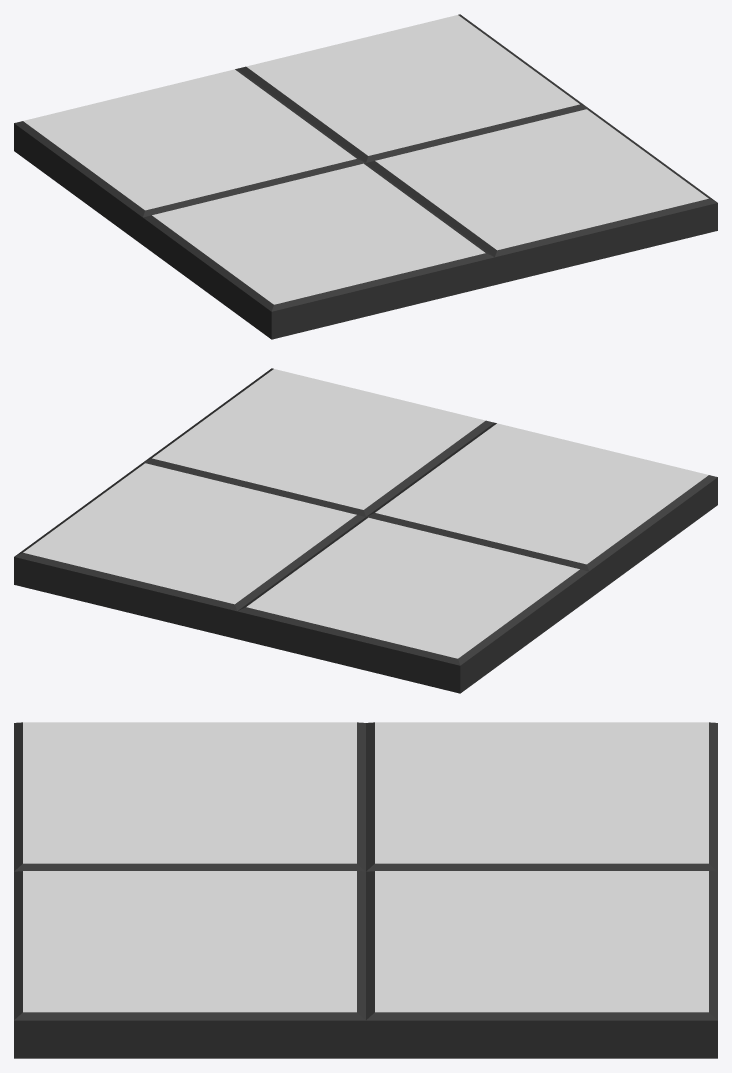
The model's file is Ma_Floor_Small.fbx.
3 renders of one model, top to bottom at view 1: azimuth 30°, elevation 25°; view 2: azimuth 150°, elevation 25°; view 3: azimuth 270°, elevation 25°, orthographic. The views are drawn at different scales.
Parts seen in each view (by area): view 1: Ma_Floor_Small; view 2: Ma_Floor_Small; view 3: Ma_Floor_Small.
Part boxes in pixels (<box>): Ma_Floor_Small: <box>14,14,717,339</box>; Ma_Floor_Small: <box>14,368,717,693</box>; Ma_Floor_Small: <box>14,722,717,1058</box>.
Size of the model in its own units: 1000 by 1000 by 66.57.
